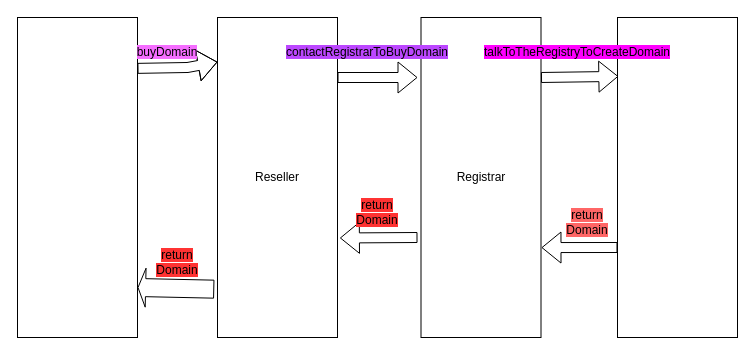
Image size: 755x355. Some labels were removed from this diagram. The shapes that lost their labels are listed below. From the top down, each one's centre as x and y in pixels, then its label:
(77,177): Customer
(677,177): Registry
